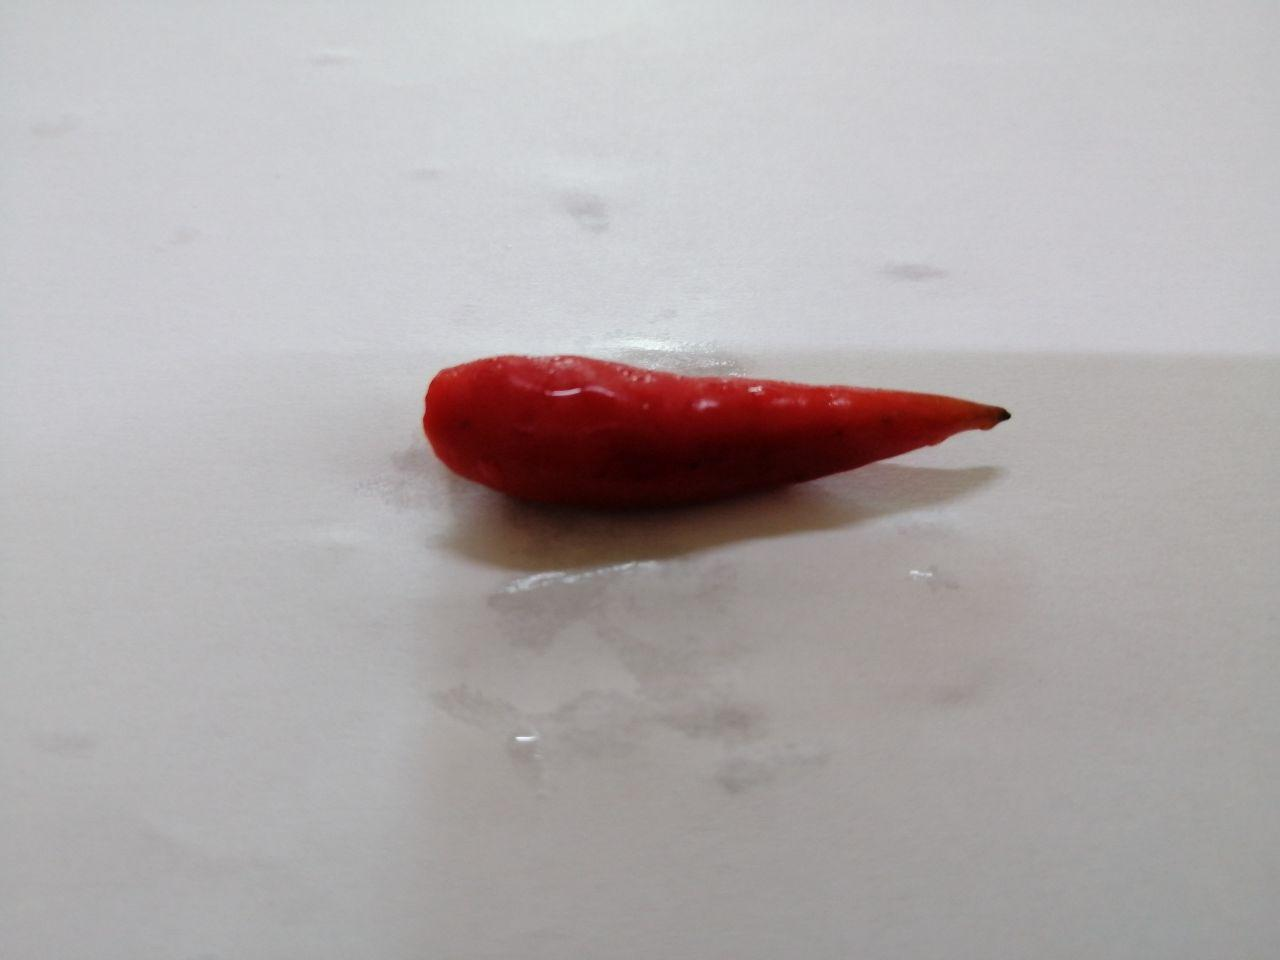lada merah: (353, 315, 1058, 549)
